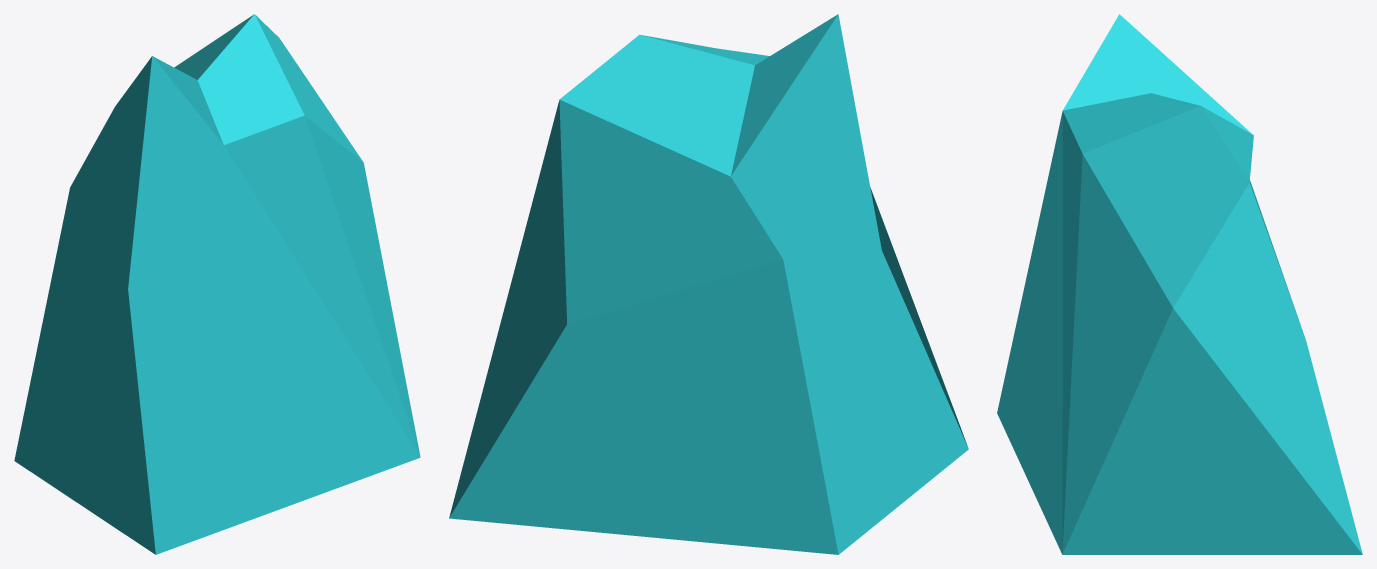
The model's file is IceBerg.fbx.
The picture shows the model from 3 angles, left to right: view 1: azimuth 30°, elevation 25°; view 2: azimuth 150°, elevation 25°; view 3: azimuth 270°, elevation 25°; orthographic projection. The views are drawn at different scales.
Parts seen in each view (by area): view 1: Cube; view 2: Cube; view 3: Cube.
Boxes of the visible parts, bbox=[...] form: Cube: bbox=[14, 14, 420, 554]; Cube: bbox=[449, 14, 968, 554]; Cube: bbox=[997, 14, 1362, 554].
Bounding box in the file's own units: 183 × 248 × 193.
